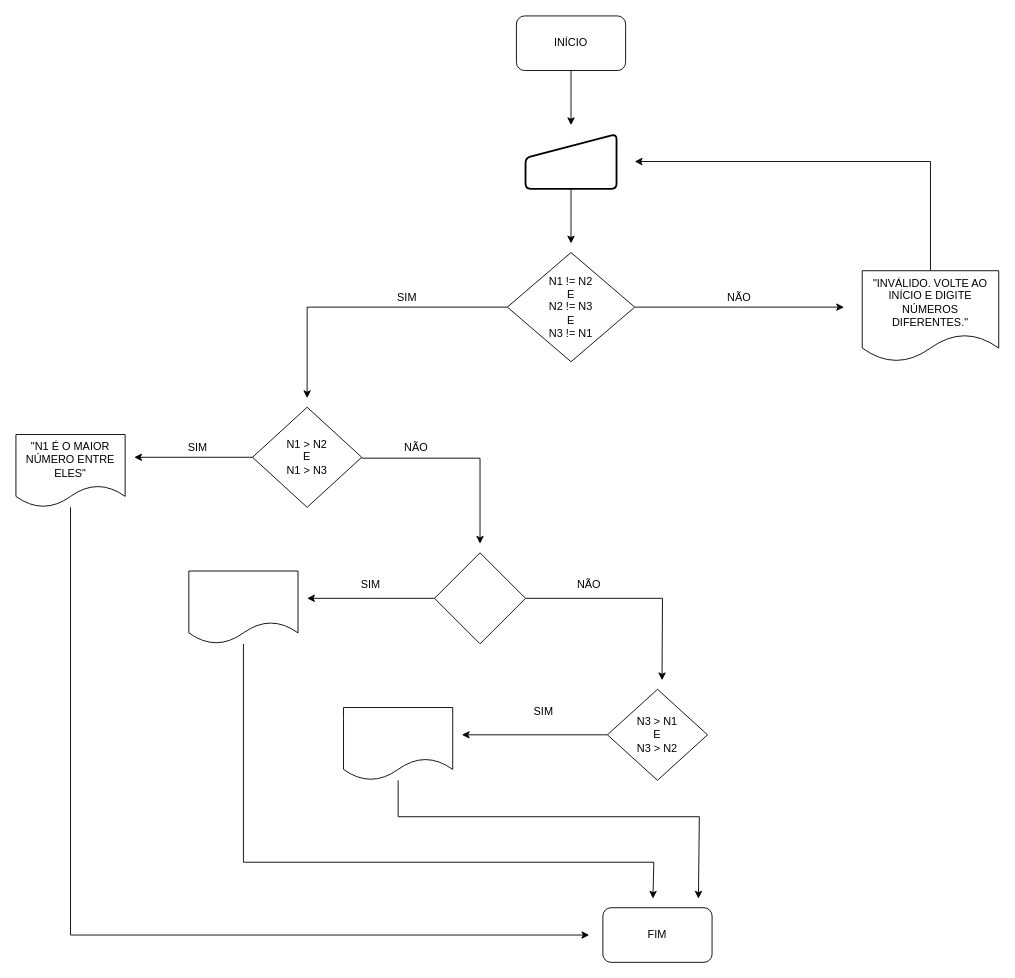
The diagram is 1015 pixels wide and 978 high, and some of its shapes have lost their labels. Here are the shapes that lost their labels. From the top down, the box of each, then its label:
(524, 133, 617, 189): N1, N2, N3
(188, 570, 298, 644): "N2 É O MAIOR NÚMERO ENTRE ELES"
(434, 552, 526, 644): N2 > N1 E N2 > N3
(343, 707, 453, 780): "N3 É O MAIOR NÚMERO ENTRE ELES"
